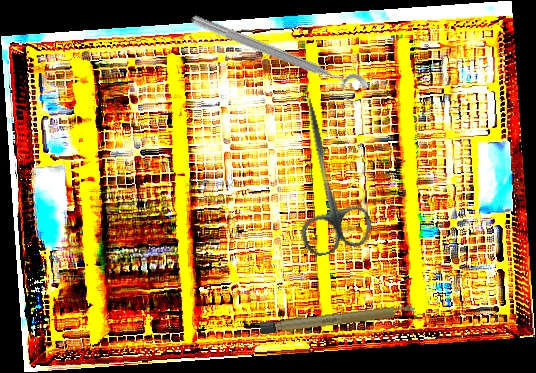Fixation Ring: (184, 9, 372, 109)
Iris Scissors: (271, 90, 376, 259)
Scalpel Handle: (259, 303, 417, 336)
